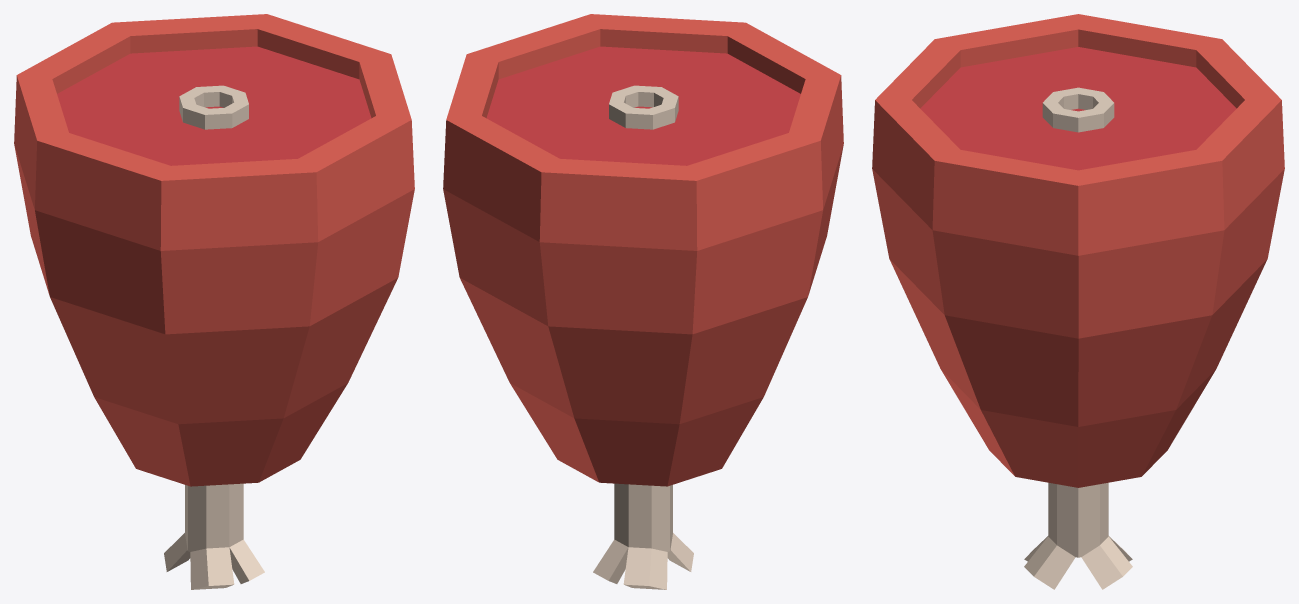
File: Meat.fbx
3 renders of one model, left to right at view 1: azimuth 30°, elevation 25°; view 2: azimuth 150°, elevation 25°; view 3: azimuth 270°, elevation 25°, orthographic.
Parts seen in each view (by area): view 1: Circle; view 2: Circle; view 3: Circle.
Boxes of the visible parts, box(x1,y1,x2,y2) form: Circle: box(14, 14, 414, 589); Circle: box(443, 14, 843, 589); Circle: box(872, 14, 1284, 589).
Bounding box in the file's own units: 203 × 256 × 203.
